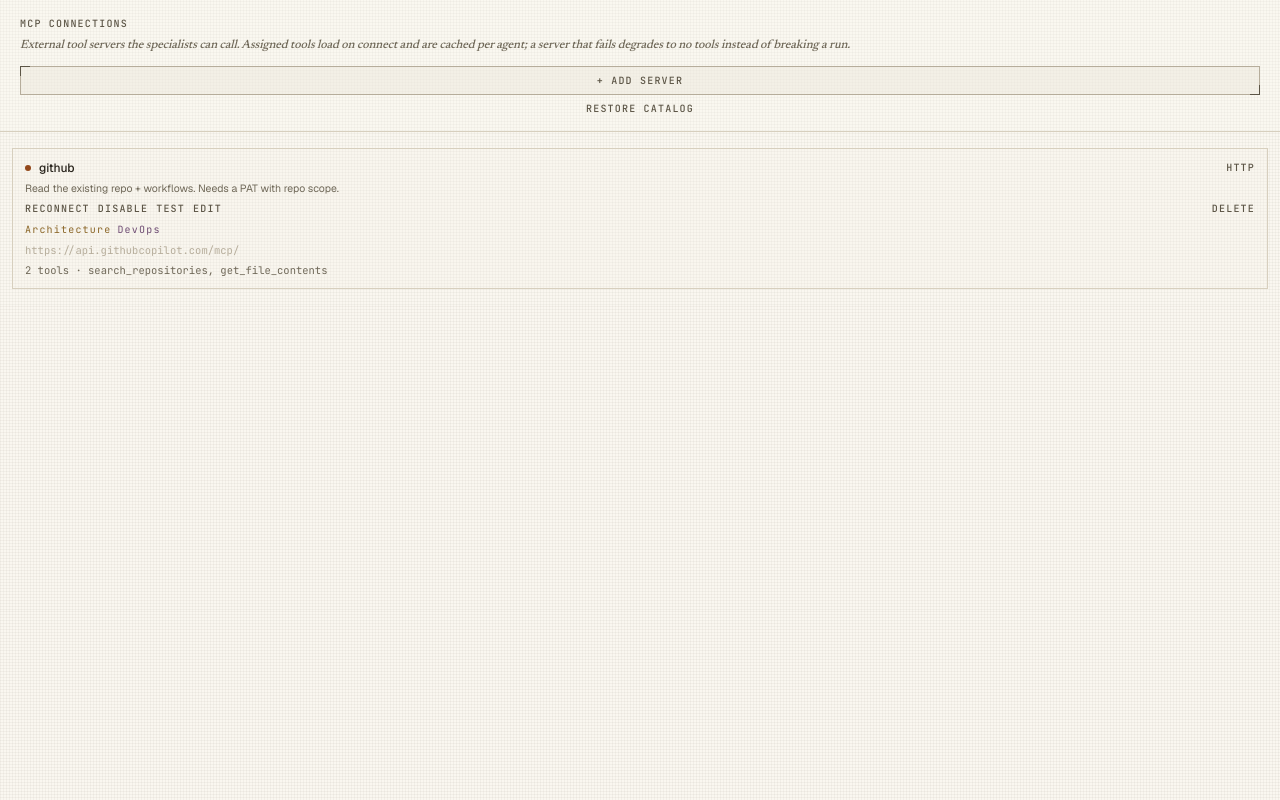
Test case: McpPanel › can clear OAuth credentials without exposing tokens
Later steps or results of the test are not shown.
Check: the button "RECONNECT" is shown, box left=25, top=201, right=90, bottom=216
Click the button "EDIT" at (207,208), box left=193, top=201, right=222, bottom=216
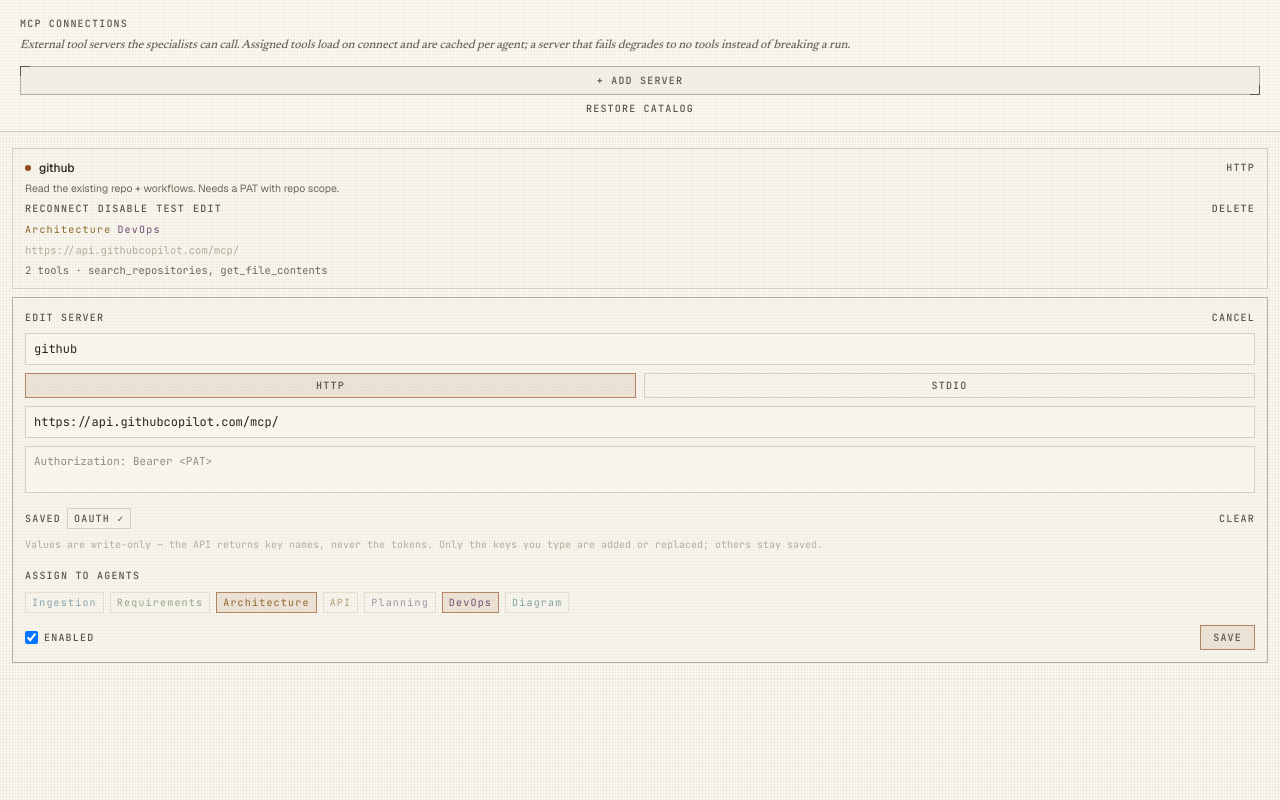
Check: the text "OAuth ✓" is shown, box left=67, top=508, right=131, bottom=529
